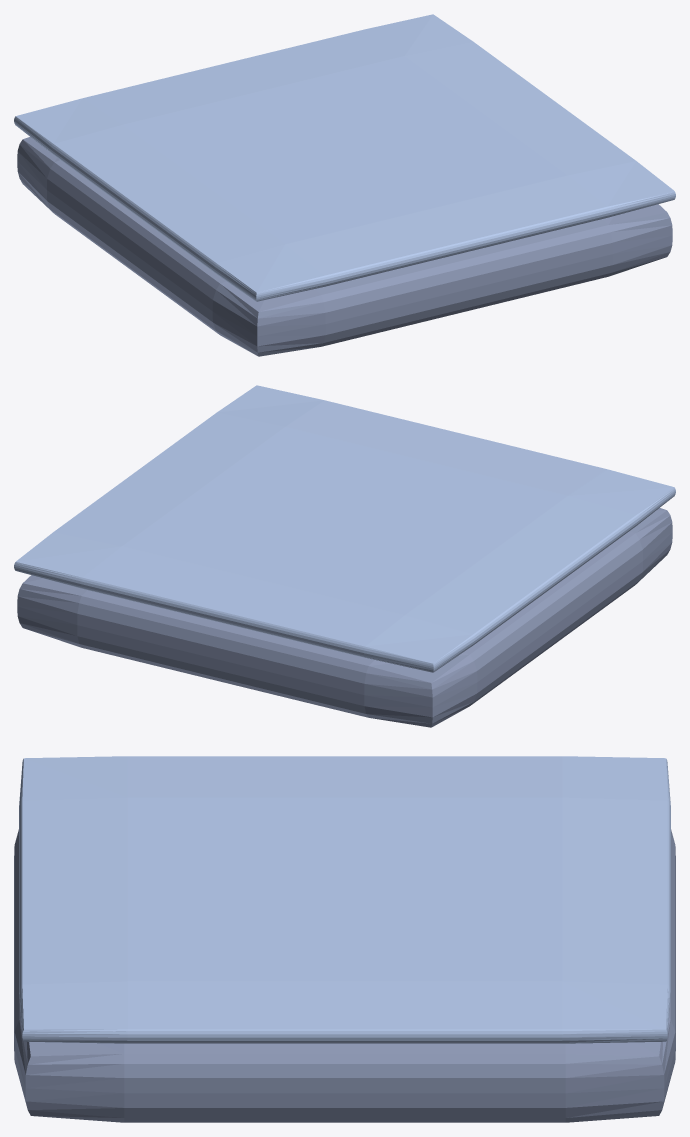
Rendered from base_cell.glb.
The picture shows the model from 3 angles, top to bottom: view 1: azimuth 30°, elevation 25°; view 2: azimuth 150°, elevation 25°; view 3: azimuth 270°, elevation 25°; orthographic projection. The views are drawn at different scales.
Visible parts, largest first — view 1: base_cell:top_gasket, base_cell:base; view 2: base_cell:top_gasket, base_cell:base; view 3: base_cell:top_gasket, base_cell:base.
Part boxes in pixels (box(x1,y1,x2,y2)): base_cell:top_gasket: box(14, 14, 675, 301); base_cell:base: box(17, 137, 672, 356); base_cell:top_gasket: box(14, 385, 675, 672); base_cell:base: box(17, 508, 672, 727); base_cell:top_gasket: box(19, 756, 670, 1043); base_cell:base: box(14, 829, 675, 1122).
Bounding box in the file's own units: 1 × 0.1815 × 1.
